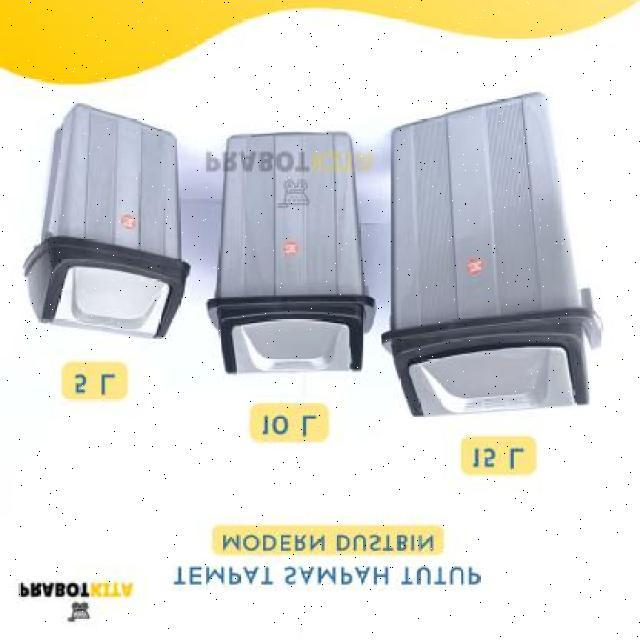garbage container: (377, 79, 610, 427), (203, 119, 379, 381), (20, 100, 200, 351)
